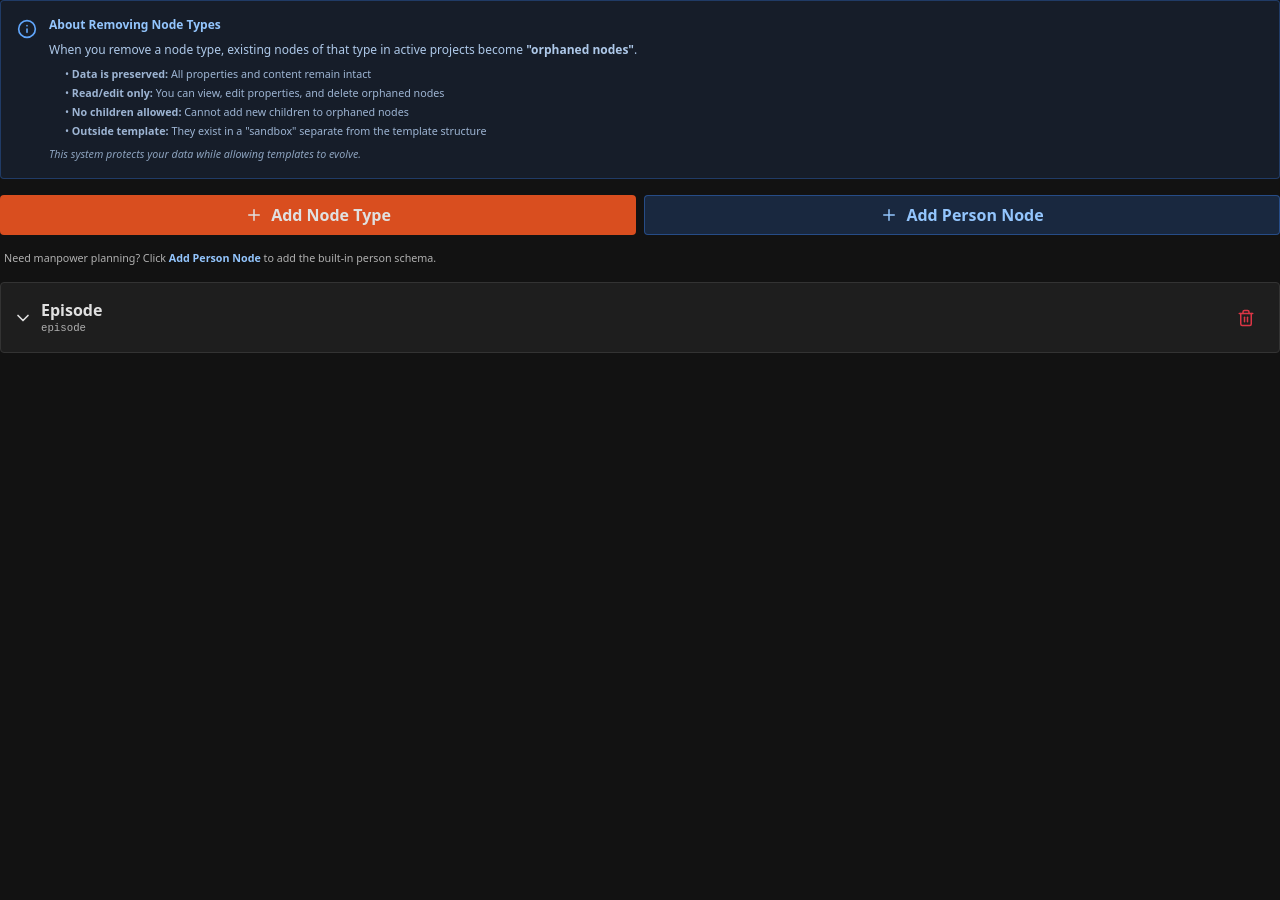
Test: NodeTypeEditor › persists selected primary status property when checkbox is toggled
This screenshot has width=1280, height=900.
Click the heading "Episode" at (72, 310), box [41,299,102,321]
(page scrolled)
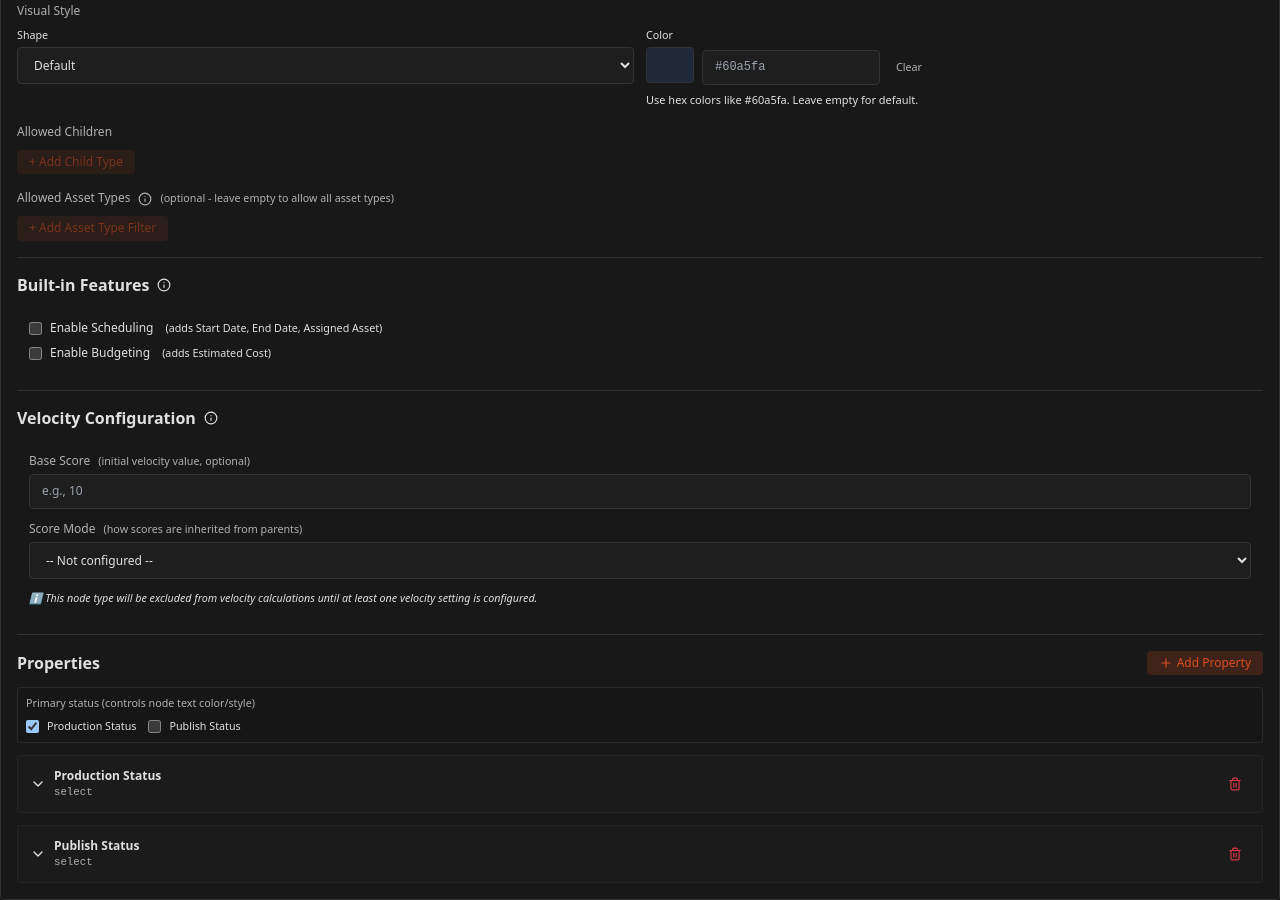
Click the checkbox labelled "Publish Status" at (155, 727), box [148,720,162,734]
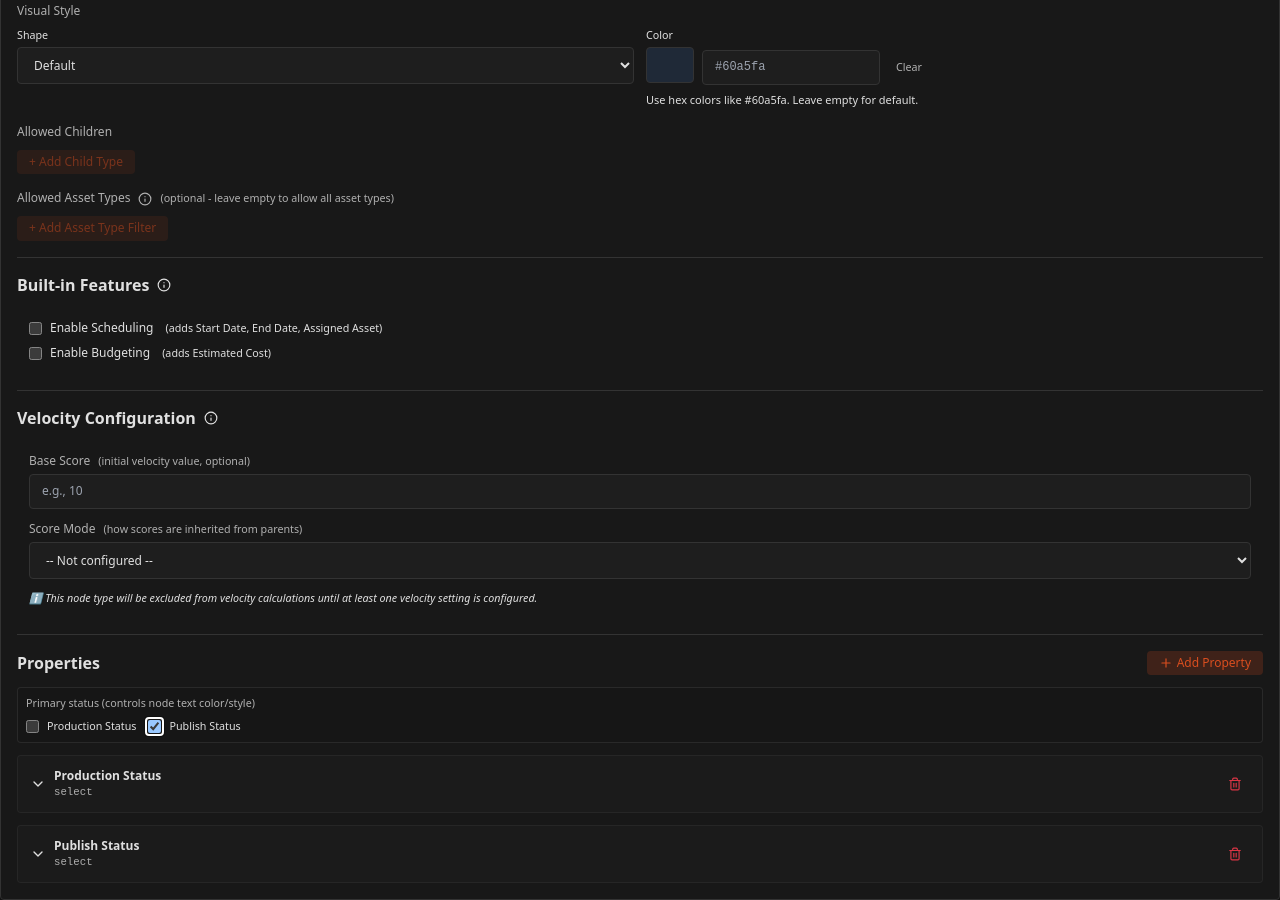
Now the checkbox labelled "Publish Status" is checked, box [148,720,162,734]
Now the checkbox labelled "Production Status" is not checked, box [26,720,39,734]
